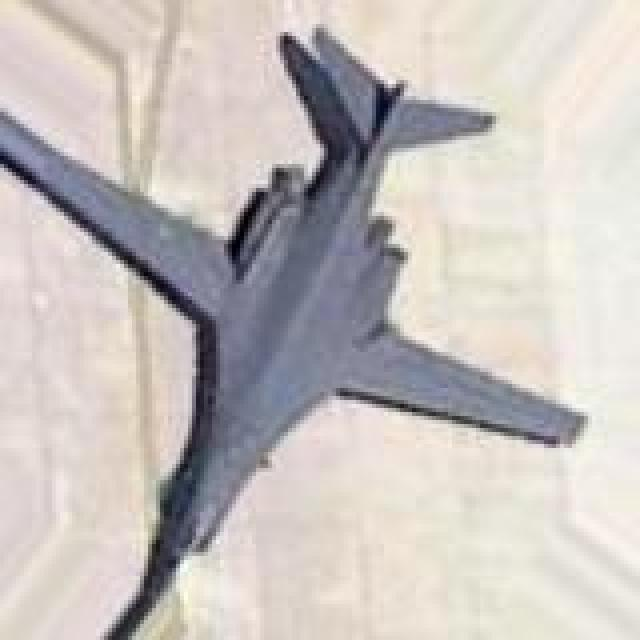B-1_TopDown: (0, 20, 588, 636)
